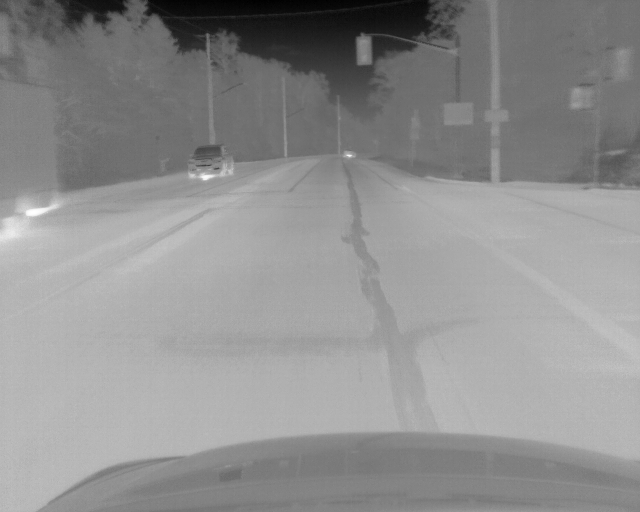car: (1, 80, 57, 238), (188, 144, 234, 181), (341, 150, 357, 160)
